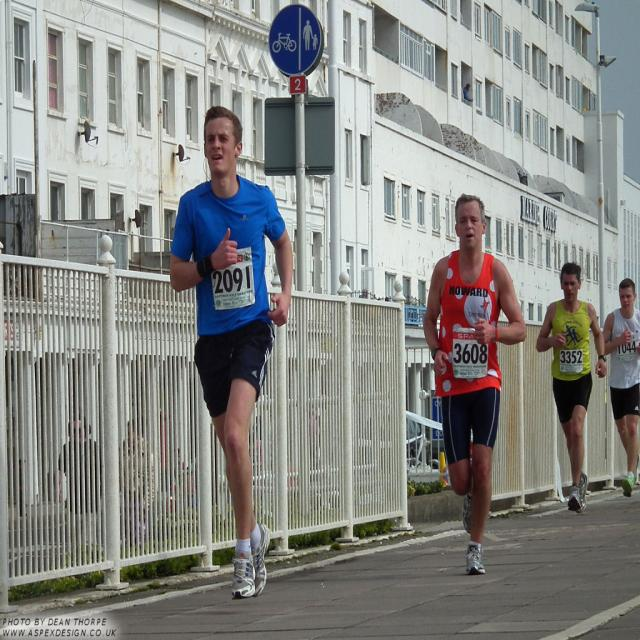Bib: (212, 268, 259, 296), (455, 345, 487, 368), (560, 351, 586, 368)
